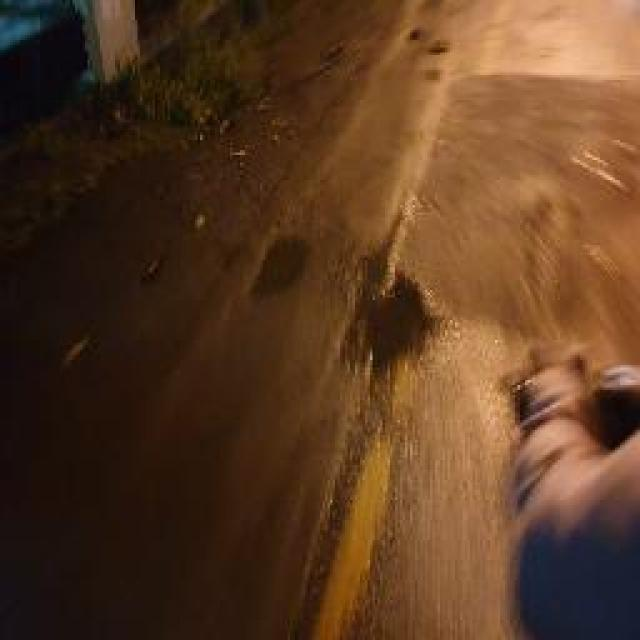stagnation: (328, 176, 460, 395), (243, 216, 318, 303)
